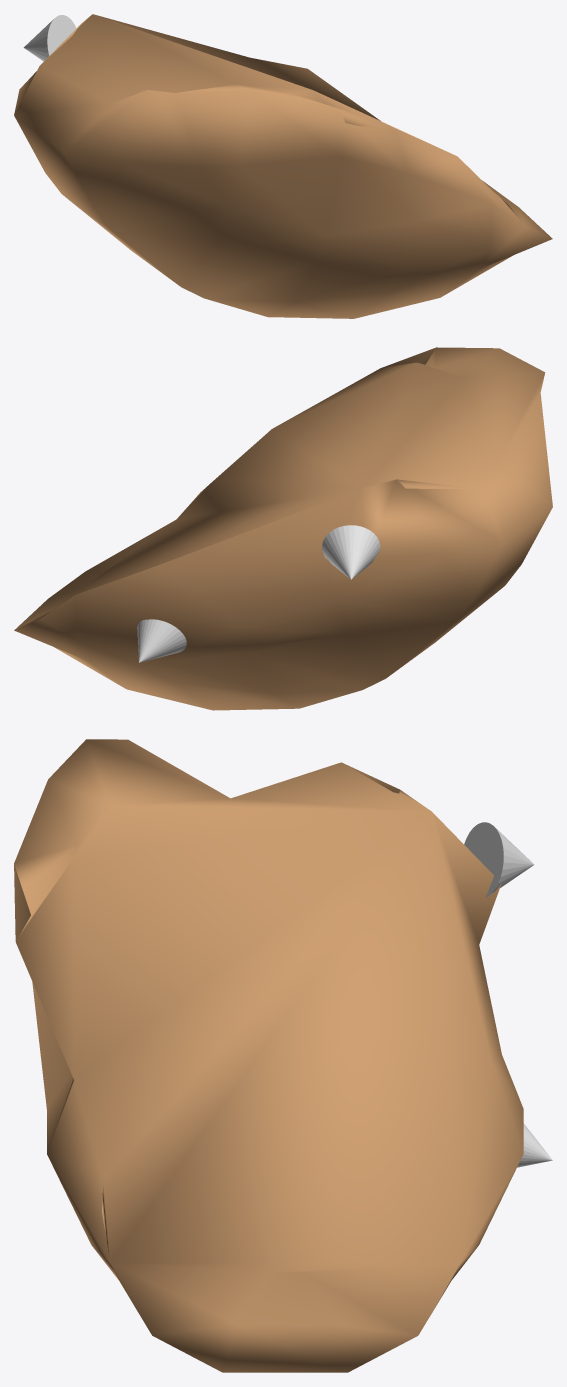
The model's file is cookie7.glb.
The picture shows the model from 3 angles, top to bottom: view 1: azimuth 30°, elevation 25°; view 2: azimuth 150°, elevation 25°; view 3: azimuth 270°, elevation 25°; orthographic projection. The views are drawn at different scales.
Visible parts, largest first — view 1: Mball.001, Cone.008; view 2: Mball.001, Cone.008, Cone.009; view 3: Mball.001, Cone.008.
Part boxes in pixels (box(x1,y1,x2,y2)): Mball.001: box(14, 14, 552, 318); Cone.008: box(23, 15, 76, 61); Mball.001: box(14, 347, 552, 710); Cone.008: box(322, 525, 380, 579); Cone.009: box(137, 619, 186, 662); Mball.001: box(14, 739, 523, 1372); Cone.008: box(464, 822, 534, 897).
Bounding box in the file's own units: 2.14 × 1.42 × 1.67.
